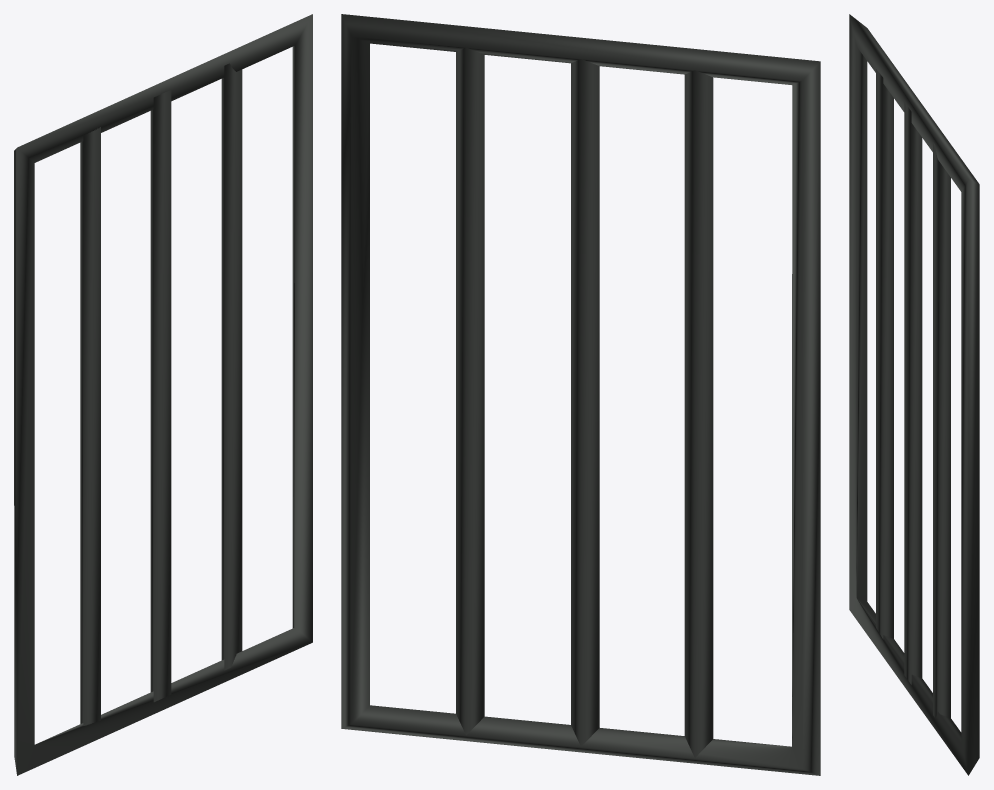
Rendered from CINEMA3_SHOT1_DOOR.fbx.
The picture shows the model from 3 angles, left to right: view 1: azimuth 30°, elevation 25°; view 2: azimuth 150°, elevation 25°; view 3: azimuth 270°, elevation 25°; orthographic projection. The views are drawn at different scales.
Visible parts, largest first — view 1: CINEMA3_SHOT1_DOOR; view 2: CINEMA3_SHOT1_DOOR; view 3: CINEMA3_SHOT1_DOOR.
Part boxes in pixels (bbox=[...]): CINEMA3_SHOT1_DOOR: bbox=[14, 14, 312, 775]; CINEMA3_SHOT1_DOOR: bbox=[341, 14, 820, 775]; CINEMA3_SHOT1_DOOR: bbox=[849, 14, 979, 775].
Size of the model in its own units: 19586 by 32811 by 6491.
1 material, 1 textured.
